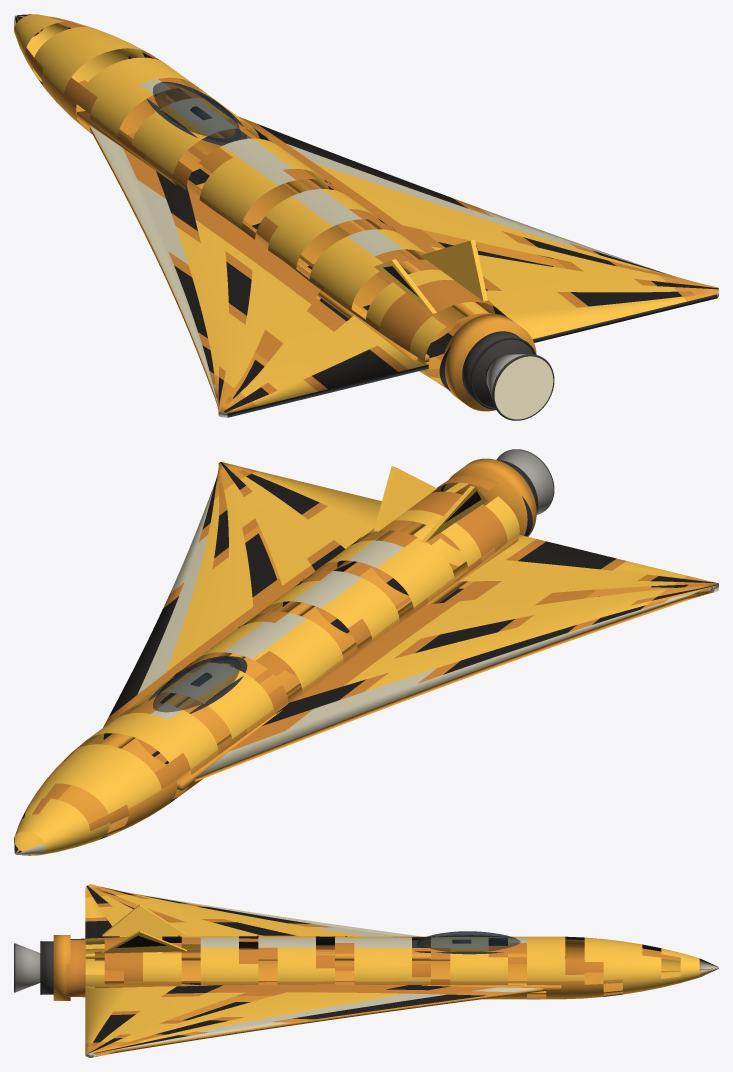
The model's file is Ship_TigerWing_3.glb.
3 views of the same model, one above another, from view 1: azimuth 30°, elevation 25°; view 2: azimuth 150°, elevation 25°; view 3: azimuth 270°, elevation 25° (orthographic). The views are drawn at different scales.
Visible parts, largest first — view 1: Fuselage_OrganicEllipsoidTaperedBody_BakedPaint, Wing_Left_LongDeltaAerofoil_BakedPaint, Wing_Right_LongDeltaAerofoil_BakedPaint, CanopyGlass_LowInsetDome, EngineEmitter, AftCollar_IntegratedSingleEngineBand, EngineBlock_AftDarkSingleEngineHousing, TailFin_Right_CantedStabilizer, WingRoot_Left_EmbeddedShoulder, WingRoot_Right_EmbeddedShoulder, CanopyFrame_DorsalOvalRim, TailFin_Left_CantedStabilizer; view 2: Fuselage_OrganicEllipsoidTaperedBody_BakedPaint, Wing_Left_LongDeltaAerofoil_BakedPaint, Wing_Right_LongDeltaAerofoil_BakedPaint, CanopyGlass_LowInsetDome, AftCollar_IntegratedSingleEngineBand, TailFin_Right_CantedStabilizer, WingRoot_Left_EmbeddedShoulder, EngineBell_Center_BroadBurnishedNozzle, WingRoot_Right_EmbeddedShoulder, TailFin_Left_CantedStabilizer, CanopyFrame_DorsalOvalRim; view 3: Fuselage_OrganicEllipsoidTaperedBody_BakedPaint, Wing_Right_LongDeltaAerofoil_BakedPaint, Wing_Left_LongDeltaAerofoil_BakedPaint, CanopyGlass_LowInsetDome, TailFin_Left_CantedStabilizer, AftCollar_IntegratedSingleEngineBand, EngineBell_Center_BroadBurnishedNozzle, WingRoot_Right_EmbeddedShoulder, TailFin_Right_CantedStabilizer, WingRoot_Left_EmbeddedShoulder, EngineBlock_AftDarkSingleEngineHousing, CanopyFrame_DorsalOvalRim (+1 smaller).
Boxes of the visible parts, <box> form: Fuselage_OrganicEllipsoidTaperedBody_BakedPaint: <box>14,14,506,391</box>; Wing_Left_LongDeltaAerofoil_BakedPaint: <box>90,125,428,417</box>; Wing_Right_LongDeltaAerofoil_BakedPaint: <box>238,116,718,342</box>; CanopyGlass_LowInsetDome: <box>153,82,240,142</box>; EngineEmitter: <box>494,356,553,419</box>; AftCollar_IntegratedSingleEngineBand: <box>443,313,536,411</box>; EngineBlock_AftDarkSingleEngineHousing: <box>462,331,533,407</box>; TailFin_Right_CantedStabilizer: <box>421,239,487,301</box>; WingRoot_Left_EmbeddedShoulder: <box>77,111,429,362</box>; WingRoot_Right_EmbeddedShoulder: <box>166,89,489,316</box>; CanopyFrame_DorsalOvalRim: <box>146,88,247,145</box>; TailFin_Left_CantedStabilizer: <box>374,259,436,313</box>; Fuselage_OrganicEllipsoidTaperedBody_BakedPaint: <box>14,475,532,855</box>; Wing_Left_LongDeltaAerofoil_BakedPaint: <box>195,535,718,781</box>; Wing_Right_LongDeltaAerofoil_BakedPaint: <box>103,462,381,727</box>; CanopyGlass_LowInsetDome: <box>153,656,240,712</box>; AftCollar_IntegratedSingleEngineBand: <box>443,458,536,536</box>; TailFin_Right_CantedStabilizer: <box>374,466,436,531</box>; WingRoot_Left_EmbeddedShoulder: <box>177,537,518,790</box>; EngineBell_Center_BroadBurnishedNozzle: <box>497,449,553,514</box>; WingRoot_Right_EmbeddedShoulder: <box>98,521,425,748</box>; TailFin_Left_CantedStabilizer: <box>421,486,487,542</box>; CanopyFrame_DorsalOvalRim: <box>148,656,247,713</box>; Fuselage_OrganicEllipsoidTaperedBody_BakedPaint: <box>66,936,718,999</box>; Wing_Right_LongDeltaAerofoil_BakedPaint: <box>85,982,543,1057</box>; Wing_Left_LongDeltaAerofoil_BakedPaint: <box>85,884,565,958</box>; CanopyGlass_LowInsetDome: <box>416,931,520,952</box>; TailFin_Left_CantedStabilizer: <box>102,904,186,936</box>; AftCollar_IntegratedSingleEngineBand: <box>53,935,70,1000</box>; EngineBell_Center_BroadBurnishedNozzle: <box>15,943,40,992</box>; WingRoot_Right_EmbeddedShoulder: <box>95,981,561,990</box>; TailFin_Right_CantedStabilizer: <box>102,931,186,953</box>; WingRoot_Left_EmbeddedShoulder: <box>95,950,526,960</box>; EngineBlock_AftDarkSingleEngineHousing: <box>41,941,53,994</box>; CanopyFrame_DorsalOvalRim: <box>412,935,507,954</box>.
Bounding box in the file's own units: 4.84 × 1.07 × 8.54.
